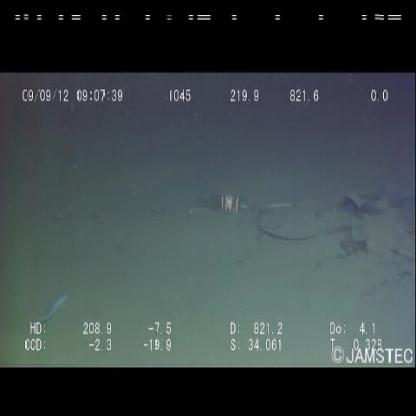Rác: (197, 184, 256, 223)
